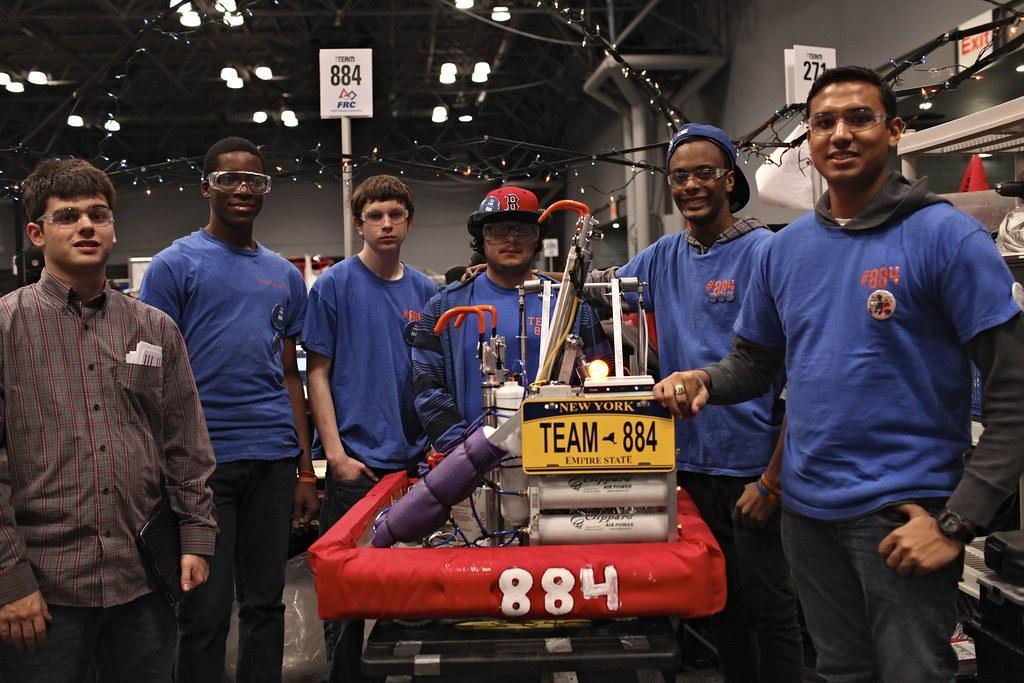robot: (298, 193, 741, 629)
